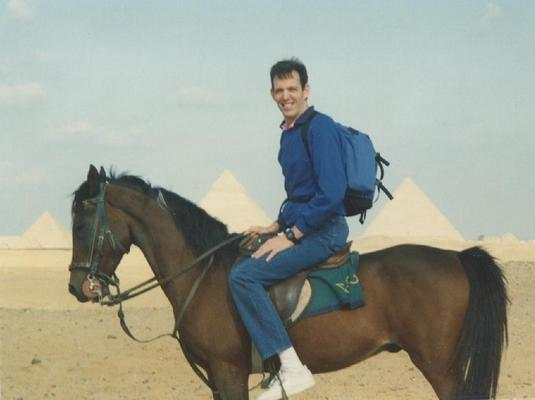person: (228, 59, 351, 400)
